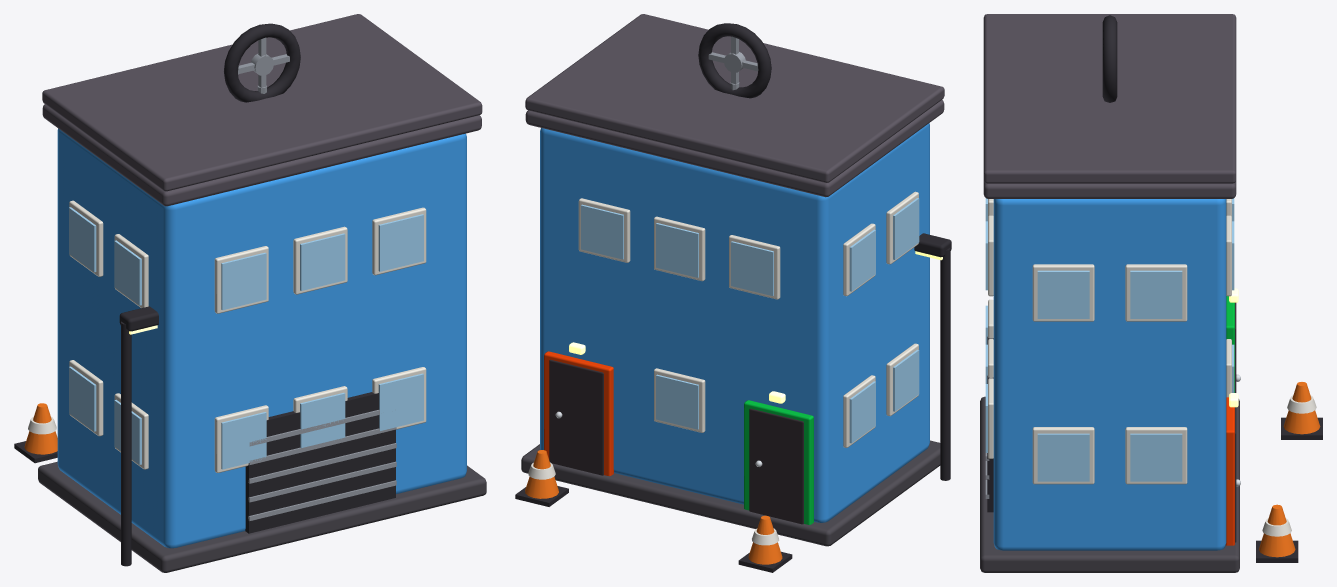
Rendered from building_driving_center_t2.glb.
3 views of the same model, side by side, from view 1: azimuth 30°, elevation 25°; view 2: azimuth 150°, elevation 25°; view 3: azimuth 270°, elevation 25° (orthographic). The views are drawn at different scales.
Visible parts, largest first — view 1: Walls, Roof.Parapet, BayDoor, Plinth, Roof.Slab, BaySlat, Sign.Wheel, Lamp.Post, WinB1.Pane, WinB1.Pane.002, WinB1.Pane.001, WinB0.Pane.002 (+17 smaller); view 2: Walls, Roof.Parapet, Plinth, Roof.Slab, Entry.Leaf, Exit.Leaf, Sign.Wheel, Lamp.Post, Entry.Frame, Exit.Frame, Win0.Pane, Win1.Pane (+17 smaller); view 3: Walls, Roof.Parapet, Plinth, Roof.Slab, WinR0.Pane, WinR0.Pane.001, WinR1.Pane, WinR1.Pane.001, Sign.Wheel, Exit.Frame, WinR0.Frame, WinR0.Frame.001 (+9 smaller).
Boxes of the visible parts, x1,y1,x2,y2 form: Walls: (57, 128, 466, 548); Roof.Parapet: (42, 14, 482, 191); BayDoor: (245, 392, 395, 533); Plinth: (38, 461, 486, 572); Roof.Slab: (42, 104, 481, 206); BaySlat: (248, 410, 396, 520); Sign.Wheel: (224, 23, 300, 102); Lamp.Post: (121, 321, 131, 566); WinB1.Pane: (221, 252, 266, 310); WinB1.Pane.002: (378, 214, 423, 271); WinB1.Pane.001: (300, 233, 345, 290); WinB0.Pane.002: (378, 373, 423, 430); Walls: (540, 123, 929, 522); Roof.Parapet: (525, 14, 944, 182); Plinth: (521, 440, 940, 546); Roof.Slab: (525, 100, 944, 197); Entry.Leaf: (749, 408, 803, 524); Exit.Leaf: (549, 359, 603, 475); Sign.Wheel: (698, 23, 771, 98); Lamp.Post: (940, 248, 950, 480); Entry.Frame: (744, 400, 813, 524); Exit.Frame: (544, 351, 613, 476); Win0.Pane: (656, 374, 698, 429); Win1.Pane: (731, 241, 773, 295); Walls: (993, 199, 1226, 550); Roof.Parapet: (983, 14, 1236, 183); Plinth: (980, 396, 1239, 572); Roof.Slab: (983, 180, 1236, 198); WinR0.Pane: (1037, 433, 1089, 481); WinR0.Pane.001: (1130, 433, 1182, 481); WinR1.Pane: (1037, 270, 1089, 318); WinR1.Pane.001: (1130, 270, 1182, 318); Sign.Wheel: (1102, 15, 1117, 102); Exit.Frame: (1225, 397, 1234, 545); WinR0.Frame: (1032, 427, 1094, 484); WinR0.Frame.001: (1125, 427, 1187, 484).
Bounding box in the file's own units: 3.29 × 4.23 × 2.77.
